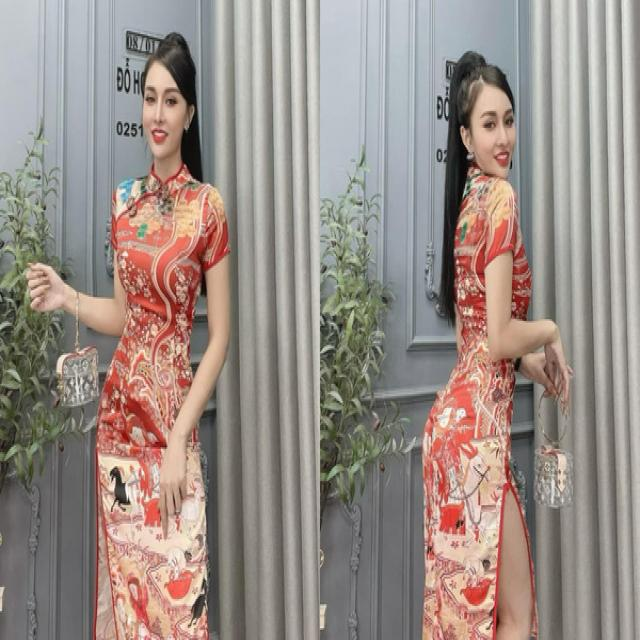clothes: (92, 160, 232, 640), (420, 167, 531, 640)
